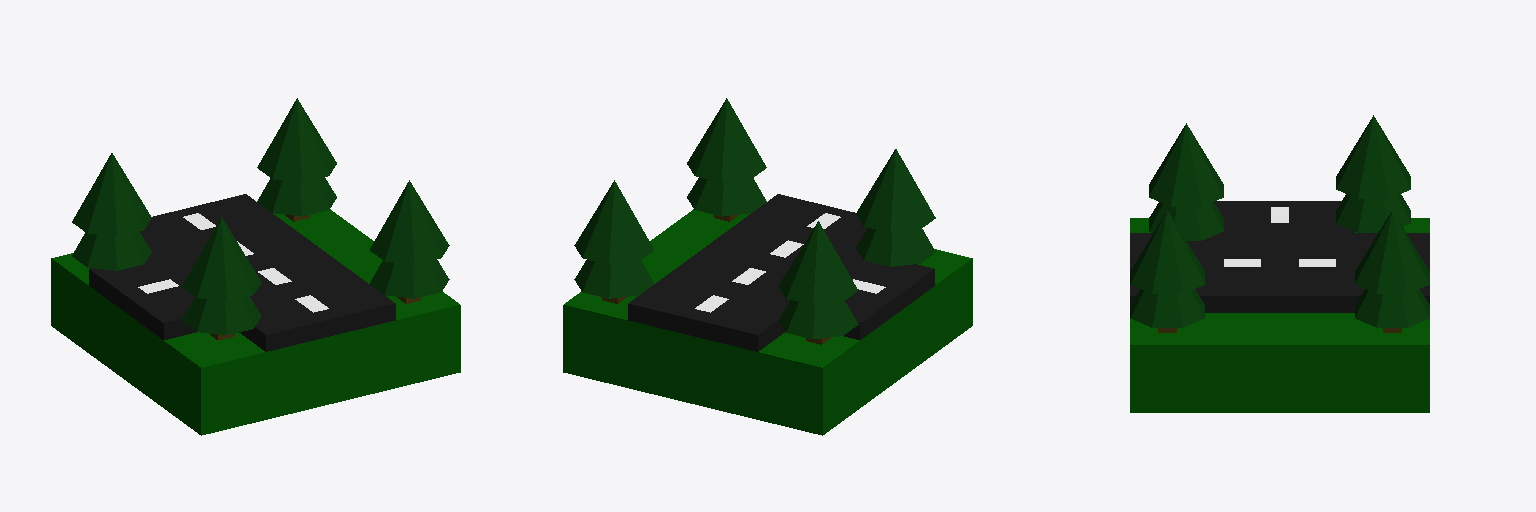
3 views of the same model, side by side, from view 1: azimuth 30°, elevation 25°; view 2: azimuth 150°, elevation 25°; view 3: azimuth 270°, elevation 25° (orthographic).
Parts seen in each view (by area): view 1: grass, cone, road, plane; view 2: grass, cone, road, plane; view 3: grass, cone, road, plane.
Boxes of the visible parts, <box> form: grass: <box>51,209,460,435</box>; cone: <box>72,98,449,334</box>; road: <box>89,194,395,351</box>; plane: <box>138,213,328,312</box>; grass: <box>563,209,972,435</box>; cone: <box>574,98,935,338</box>; road: <box>628,194,934,351</box>; plane: <box>695,213,885,312</box>; grass: <box>1130,218,1429,412</box>; cone: <box>1130,115,1429,327</box>; road: <box>1130,201,1429,312</box>; plane: <box>1224,207,1335,266</box>.
Bounding box in the file's own units: 0.25 × 0.1719 × 0.25.
Materials: 1 (1 with a texture image).